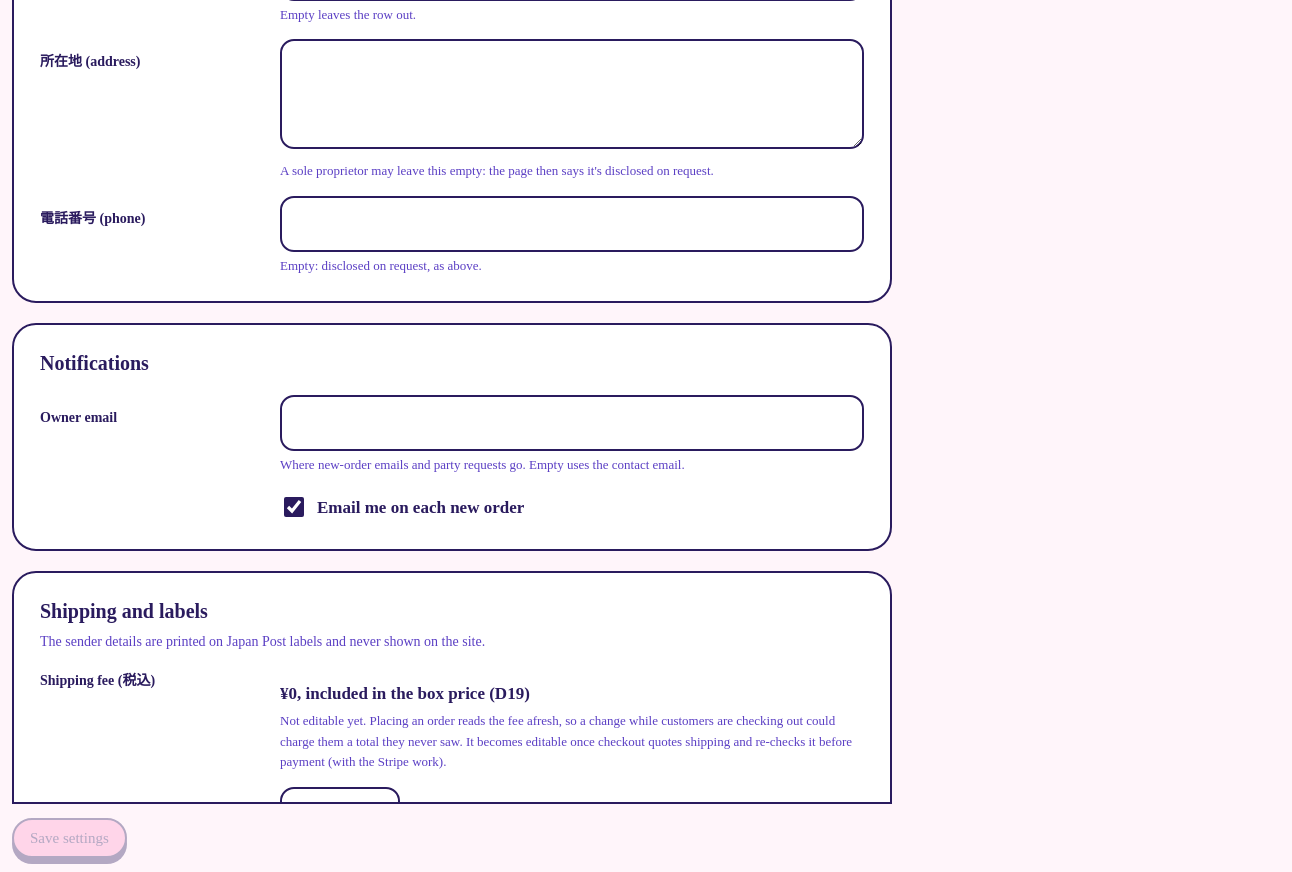
Test: SettingsForm › says so when saving fails outright, and keeps the edits
(page scrolled)
Type "owner@example.com" into the field labelled "Owner email" at (572, 423), box [280,395,864,451]
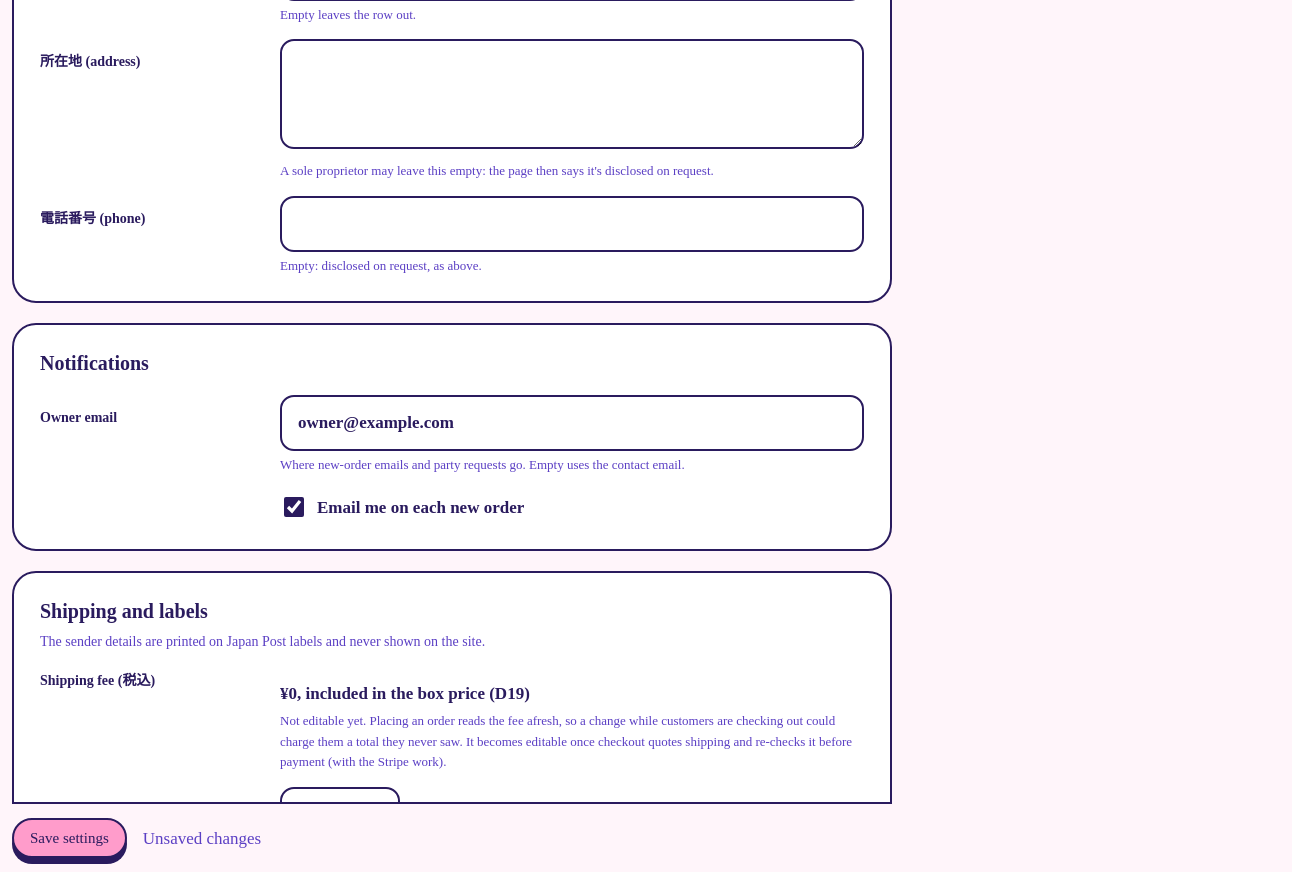
Click the button "Save settings" at (69, 838), box [12,818,127,858]
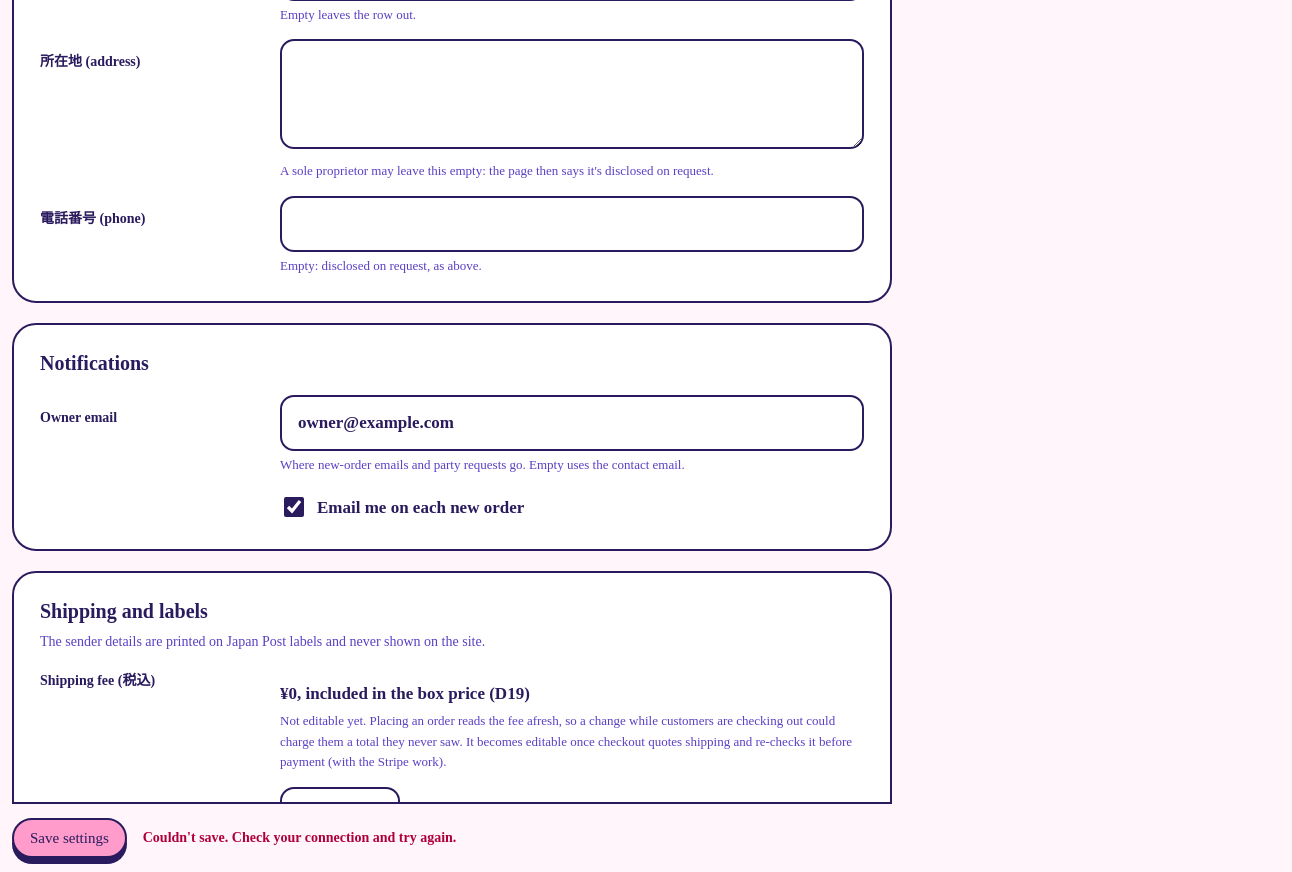
Check: the button "Save settings" is enabled, box [12,818,127,858]
Check: the message shows "Couldn't save", box [143,830,456,845]
